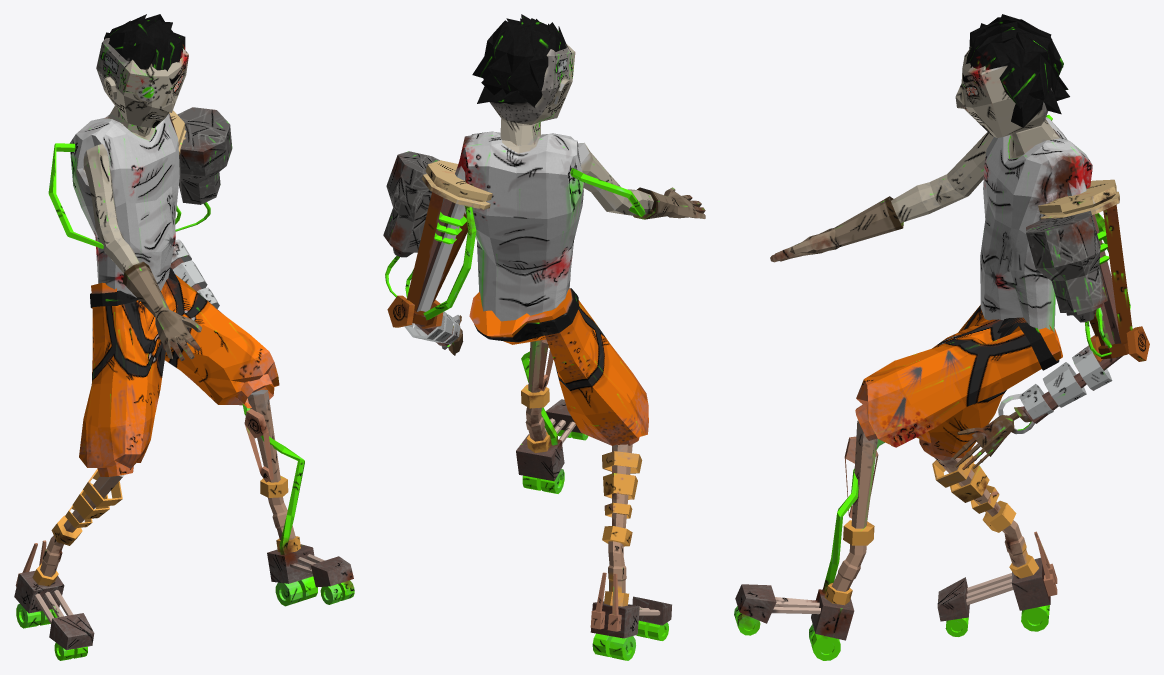
File: CyborgFINALAnimation_000005.obj
3 renders of one model, left to right at view 1: azimuth 30°, elevation 25°; view 2: azimuth 150°, elevation 25°; view 3: azimuth 270°, elevation 25°, orthographic. The views are drawn at different scales.
Visible parts, largest first — view 1: CyborgMesh_Cube.002; view 2: CyborgMesh_Cube.002; view 3: CyborgMesh_Cube.002.
Part boxes in pixels (x1=…): CyborgMesh_Cube.002: x1=14, y1=14, x2=354, y2=660; CyborgMesh_Cube.002: x1=383, y1=14, x2=705, y2=660; CyborgMesh_Cube.002: x1=734, y1=14, x2=1149, y2=660.
Size of the model in its own units: 3.58 by 9.27 by 5.27.
